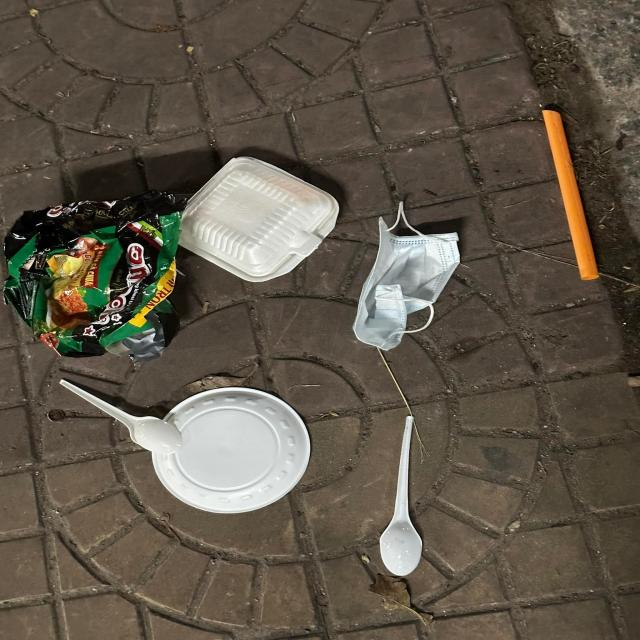drinking straw: (542, 110, 600, 280)
foam box: (174, 157, 339, 284)
mask: (352, 202, 462, 352)
plastic utensil: (151, 387, 310, 514), (59, 380, 181, 454), (378, 415, 422, 577)
snack package: (8, 193, 181, 373)
